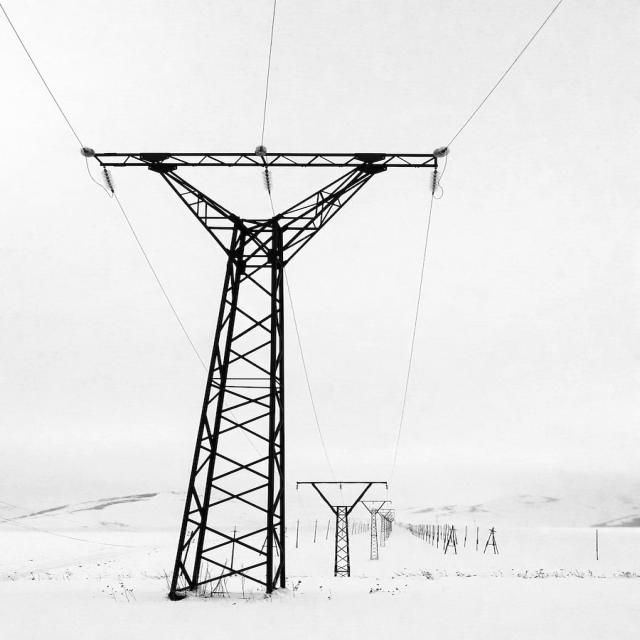transmission tower: (70, 107, 463, 606), (294, 461, 421, 608)
